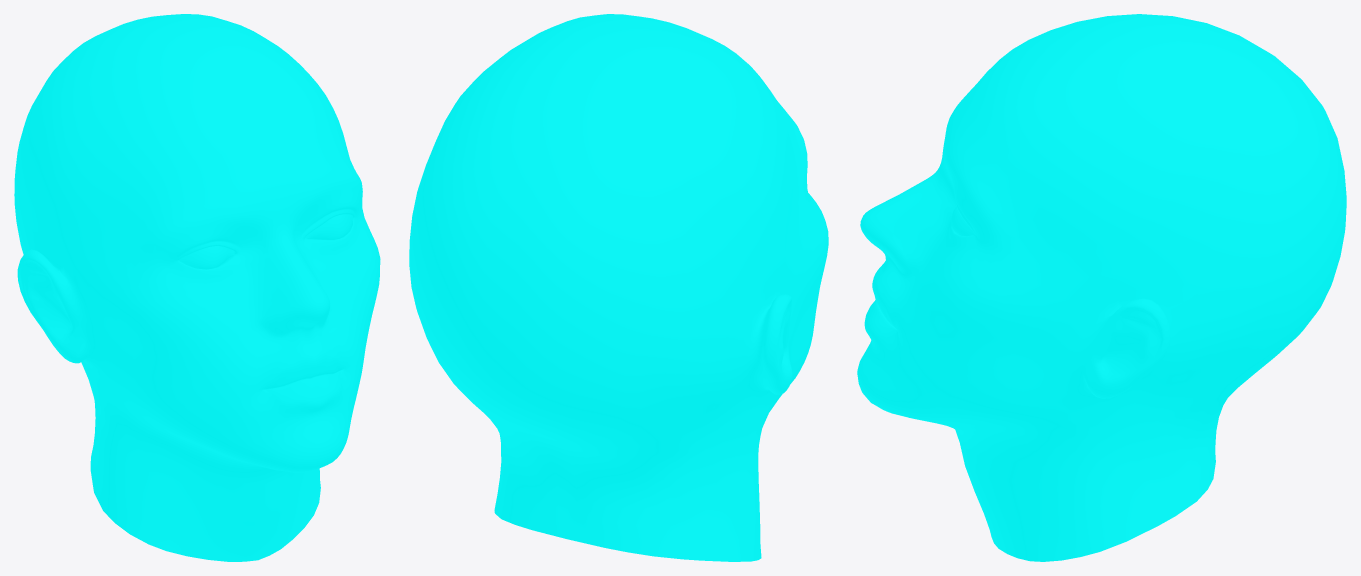
File: gideon_hologram.glb
The picture shows the model from 3 angles, left to right: view 1: azimuth 30°, elevation 25°; view 2: azimuth 150°, elevation 25°; view 3: azimuth 270°, elevation 25°; orthographic projection. The views are drawn at different scales.
Visible parts, largest first — view 1: Scarlett_Head_Clean; view 2: Scarlett_Head_Clean; view 3: Scarlett_Head_Clean.
Boxes of the visible parts, x1,y1,x2,y2 form: Scarlett_Head_Clean: (14,14,380,561); Scarlett_Head_Clean: (409,14,828,561); Scarlett_Head_Clean: (857,14,1346,561).
Size of the model in its own units: 488 by 701 by 611.
